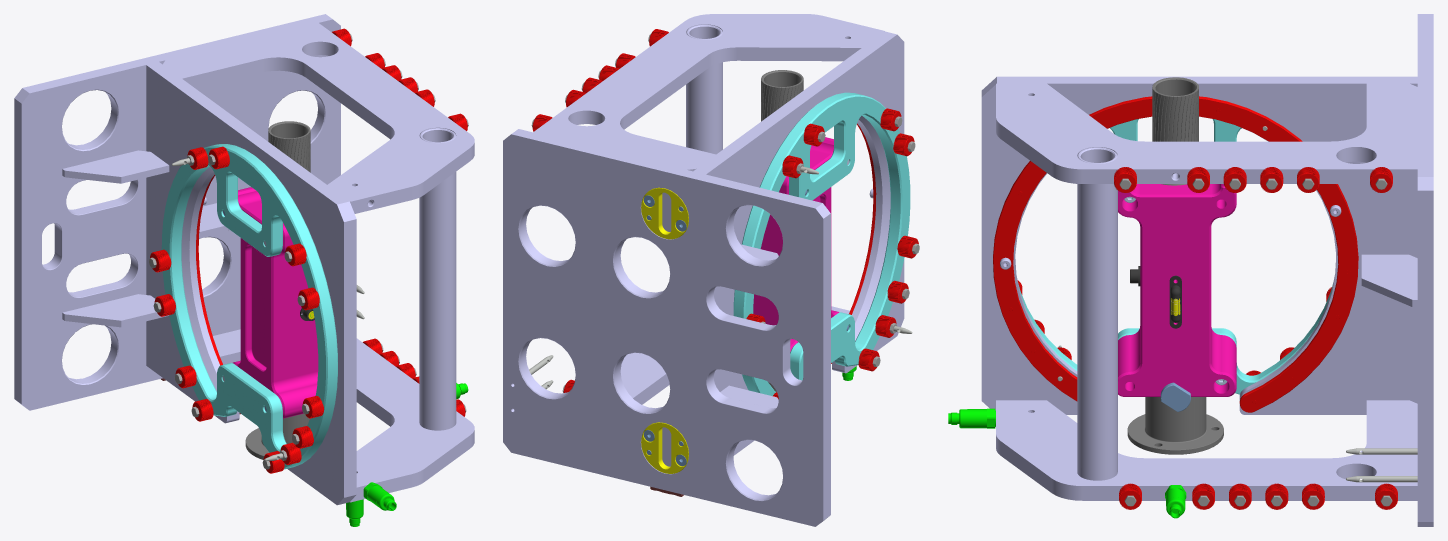
File: Support.glb
3 renders of one model, left to right at view 1: azimuth 30°, elevation 25°; view 2: azimuth 150°, elevation 25°; view 3: azimuth 270°, elevation 25°, orthographic. The views are drawn at different scales.
Parts seen in each view (by area): view 1: 01_103_Support_BTA_X8.stp-1, TOOLING BTA_X8.stp-1/TOOLING LIGNAGE LASER.stp-1/02.101_BRID, TOOLING BTA_X8.stp-1/TOOLING LIGNAGE LASER.stp-1/02.102_SUPP, TOOLING BTA_X8.stp-1/TOOLING LIGNAGE LASER.stp-1/02.100_ARBR, 01_104_Captive_Nut_Plate.stp-1, 01.200_VSP001.stp-1; view 2: 01_103_Support_BTA_X8.stp-1, TOOLING BTA_X8.stp-1/TOOLING LIGNAGE LASER.stp-1/02.101_BRID, TOOLING BTA_X8.stp-1/TOOLING LIGNAGE LASER.stp-1/02.102_SUPP, TOOLING BTA_X8.stp-1/TOOLING LIGNAGE LASER.stp-1/02.100_ARBR, 01.108_CENTREUR.stp-1, 01.108_CENTREUR_1.stp-1, 01_104_Captive_Nut_Plate.stp-1; view 3: 01_103_Support_BTA_X8.stp-1, TOOLING BTA_X8.stp-1/TOOLING LIGNAGE LASER.stp-1/02.102_SUPP, 01_104_Captive_Nut_Plate.stp-1, TOOLING BTA_X8.stp-1/TOOLING LIGNAGE LASER.stp-1/02.100_ARBR, TOOLING BTA_X8.stp-1/TOOLING LIGNAGE LASER.stp-1/02.101_BRID, 01.200_VSP001.stp-1, TOOLING BTA_X8.stp-1/TOOLING LIGNAGE LASER.stp-1/02.302_NIVE, TOOLING BTA_X8.stp-1/TOOLING LIGNAGE LASER.stp-1/02.304_VIS , 01.200_VSP001_2.stp-1.
Part boxes in pixels (left/top/right/bottom): 01_103_Support_BTA_X8.stp-1: left=14, top=14, right=474, bottom=505; TOOLING BTA_X8.stp-1/TOOLING LIGNAGE LASER.stp-1/02.101_BRID: left=161, top=144, right=337, bottom=469; TOOLING BTA_X8.stp-1/TOOLING LIGNAGE LASER.stp-1/02.102_SUPP: left=233, top=187, right=318, bottom=418; TOOLING BTA_X8.stp-1/TOOLING LIGNAGE LASER.stp-1/02.100_ARBR: left=245, top=121, right=310, bottom=459; 01_104_Captive_Nut_Plate.stp-1: left=196, top=175, right=240, bottom=414; 01.200_VSP001.stp-1: left=363, top=482, right=396, bottom=510; 01_103_Support_BTA_X8.stp-1: left=503, top=14, right=904, bottom=526; TOOLING BTA_X8.stp-1/TOOLING LIGNAGE LASER.stp-1/02.101_BRID: left=733, top=92, right=910, bottom=395; TOOLING BTA_X8.stp-1/TOOLING LIGNAGE LASER.stp-1/02.102_SUPP: left=753, top=137, right=839, bottom=351; TOOLING BTA_X8.stp-1/TOOLING LIGNAGE LASER.stp-1/02.100_ARBR: left=761, top=70, right=803, bottom=391; 01.108_CENTREUR.stp-1: left=641, top=187, right=688, bottom=239; 01.108_CENTREUR_1.stp-1: left=641, top=422, right=688, bottom=473; 01_104_Captive_Nut_Plate.stp-1: left=831, top=123, right=876, bottom=363; 01_103_Support_BTA_X8.stp-1: left=981, top=14, right=1433, bottom=526; TOOLING BTA_X8.stp-1/TOOLING LIGNAGE LASER.stp-1/02.102_SUPP: left=1118, top=184, right=1236, bottom=396; 01_104_Captive_Nut_Plate.stp-1: left=993, top=96, right=1358, bottom=412; TOOLING BTA_X8.stp-1/TOOLING LIGNAGE LASER.stp-1/02.100_ARBR: left=1127, top=77, right=1223, bottom=454; TOOLING BTA_X8.stp-1/TOOLING LIGNAGE LASER.stp-1/02.101_BRID: left=1018, top=119, right=1333, bottom=394; 01.200_VSP001.stp-1: left=948, top=408, right=995, bottom=428; TOOLING BTA_X8.stp-1/TOOLING LIGNAGE LASER.stp-1/02.302_NIVE: left=1169, top=275, right=1181, bottom=328; TOOLING BTA_X8.stp-1/TOOLING LIGNAGE LASER.stp-1/02.304_VIS : left=1160, top=382, right=1190, bottom=411; 01.200_VSP001_2.stp-1: left=1165, top=485, right=1186, bottom=518.
Bounding box in the file's own units: 0.419 × 0.4152 × 0.478.
